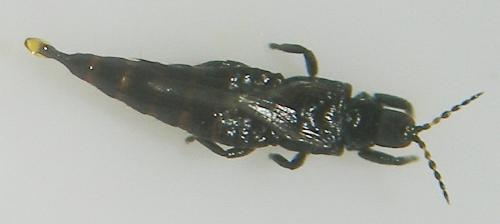Phlaeothripidae: (21, 35, 486, 203)
